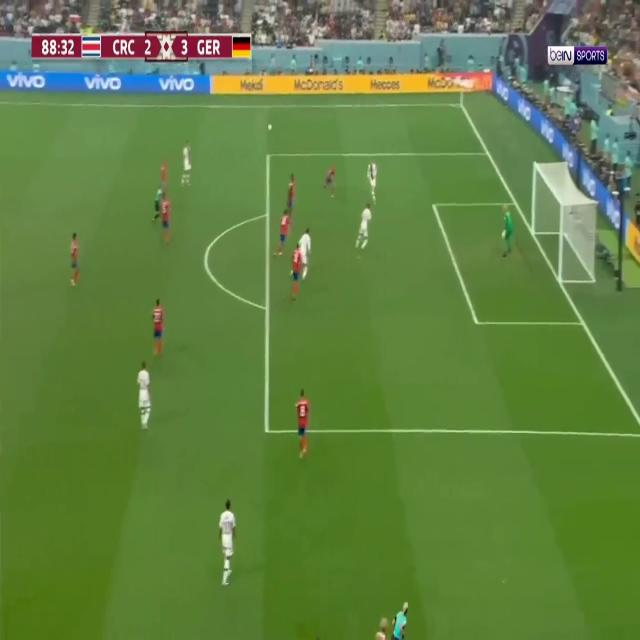ball: (268, 122, 273, 132)
team1: (273, 207, 296, 261), (294, 386, 309, 460), (150, 295, 165, 360), (289, 242, 303, 301), (69, 229, 81, 290), (285, 170, 297, 224), (160, 190, 172, 243), (321, 164, 337, 198), (160, 156, 169, 192)
team2: (217, 496, 238, 588), (136, 358, 153, 433), (291, 226, 312, 277), (355, 201, 372, 252), (366, 158, 378, 206), (182, 138, 192, 188)
